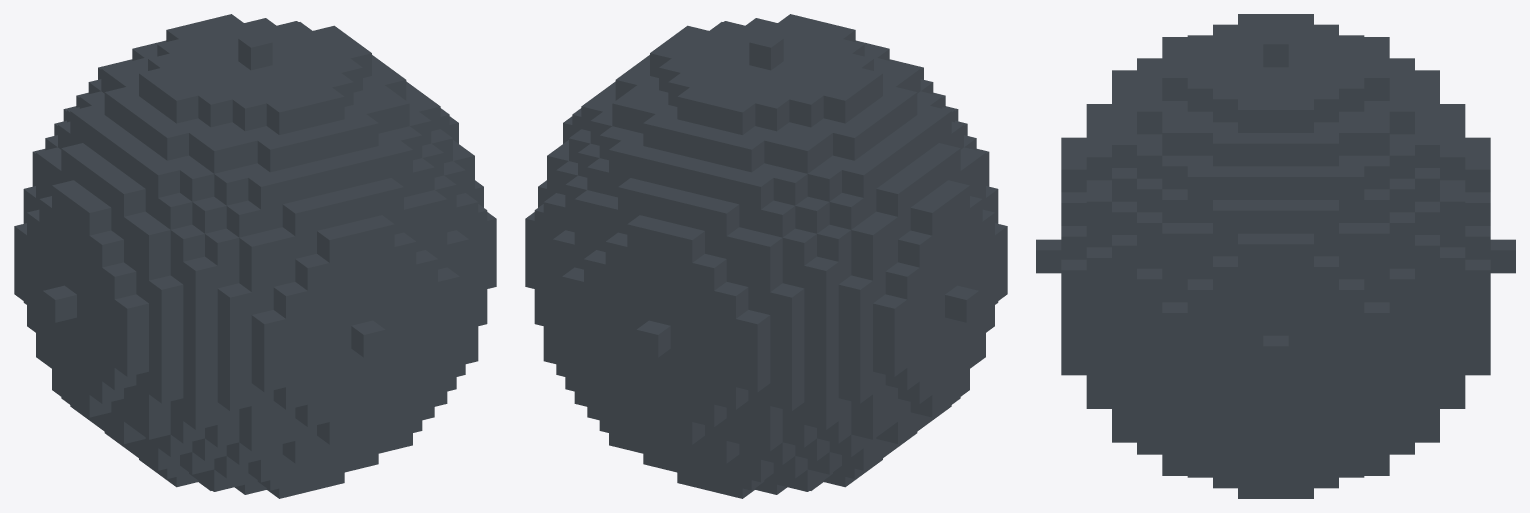
The picture shows the model from 3 angles, left to right: view 1: azimuth 30°, elevation 25°; view 2: azimuth 150°, elevation 25°; view 3: azimuth 270°, elevation 25°; orthographic projection.
Parts seen in each view (by area): view 1: Object; view 2: Object; view 3: Object.
Part boxes in pixels (box(x1,y1,x2,y2)): Object: box(14, 14, 496, 498); Object: box(525, 14, 1007, 498); Object: box(1036, 14, 1515, 498).
Bounding box in the file's own units: 19 × 19 × 19.
Materials: 1 (1 with a texture image).
